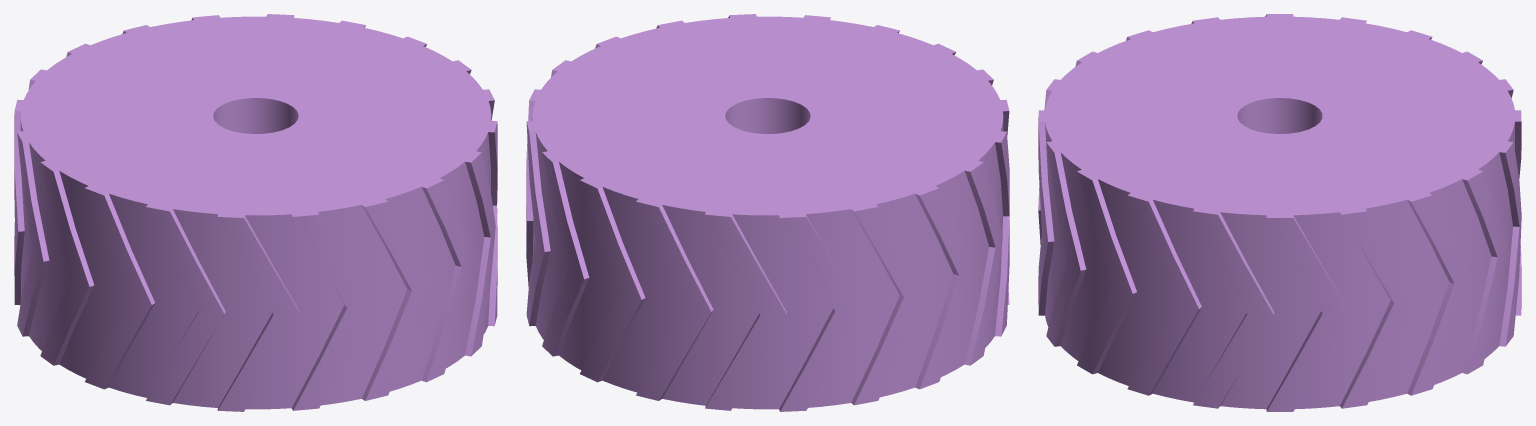
Rendered from HerringboneGear.gltf.
3 views of the same model, side by side, from view 1: azimuth 30°, elevation 25°; view 2: azimuth 150°, elevation 25°; view 3: azimuth 270°, elevation 25° (orthographic).
Visible parts, largest first — view 1: HerringboneGear_Complete; view 2: HerringboneGear_Complete; view 3: HerringboneGear_Complete.
Part boxes in pixels (x1,y1,x2,y2): HerringboneGear_Complete: (14,14,497,411); HerringboneGear_Complete: (526,14,1009,411); HerringboneGear_Complete: (1038,14,1521,411).
Bounding box in the file's own units: 0.113 × 0.05 × 0.113.
